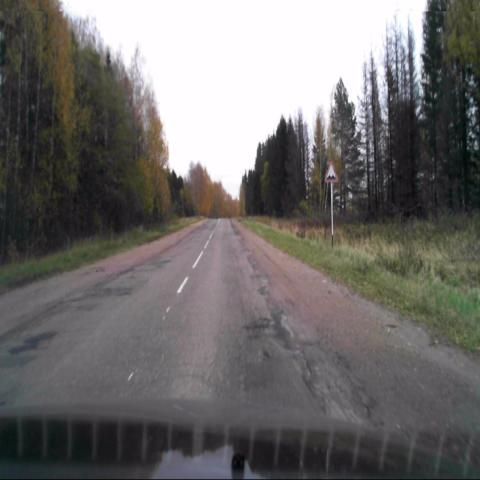1_16: (324, 162, 338, 183)
